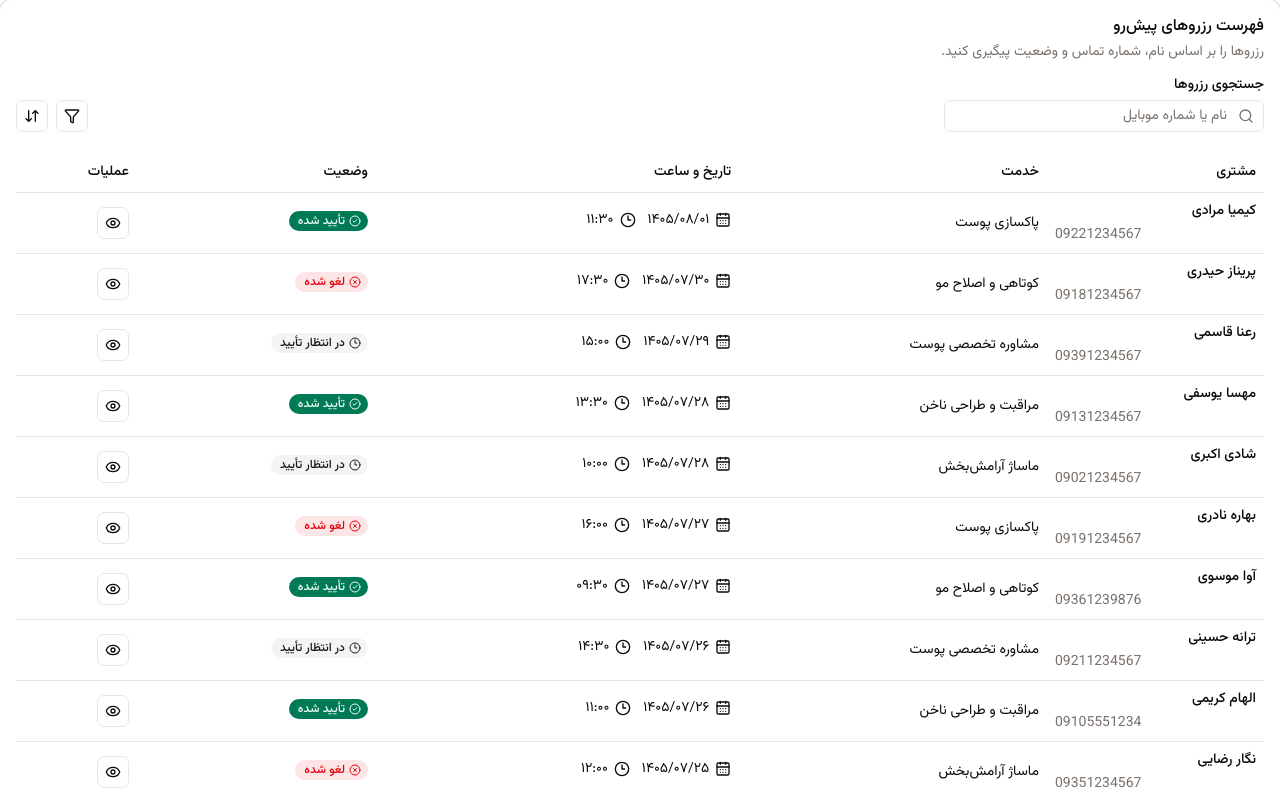
Test case: Reservation details and status actions › opens Persian Jalali details from the desktop table and shows a missing-notes state
The image size is (1280, 800).
Click the button named "مشاهده جزئیات" in the row of "ترانه حسینی" at (113, 650), box [97,634,129,666]
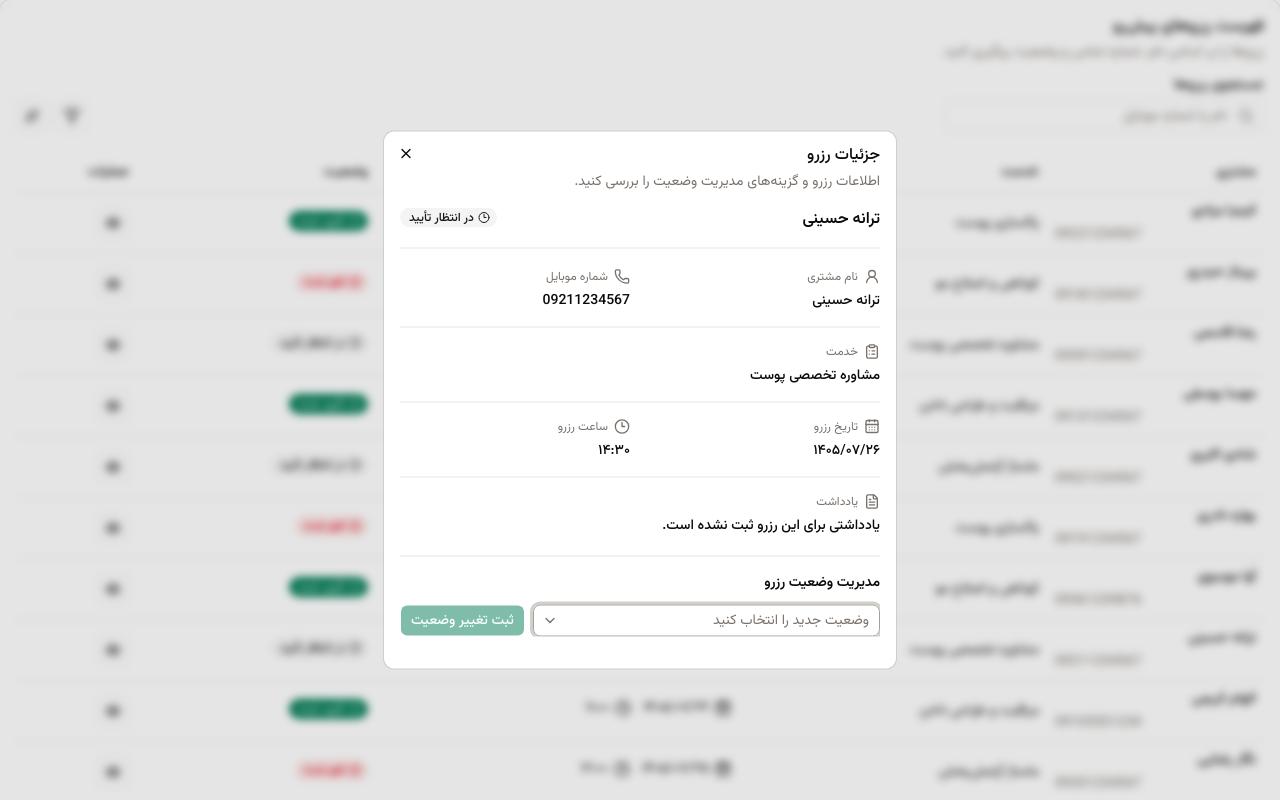
expect the dialog "جزئیات رزرو" is shown: met, box [384,132,896,668]
expect the text "۱۴۰۵/۰۷/۲۶" is shown: met, box [813,440,880,462]
expect the text "یادداشتی برای این رزرو ثبت نشده است." is shown: met, box [662,514,880,536]
